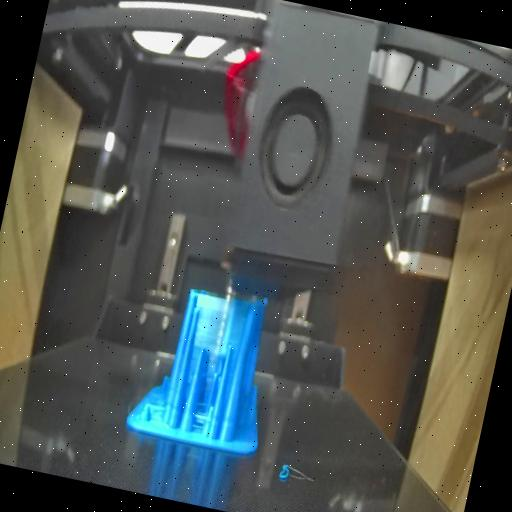stringing: (187, 292, 250, 360), (188, 358, 222, 440)
